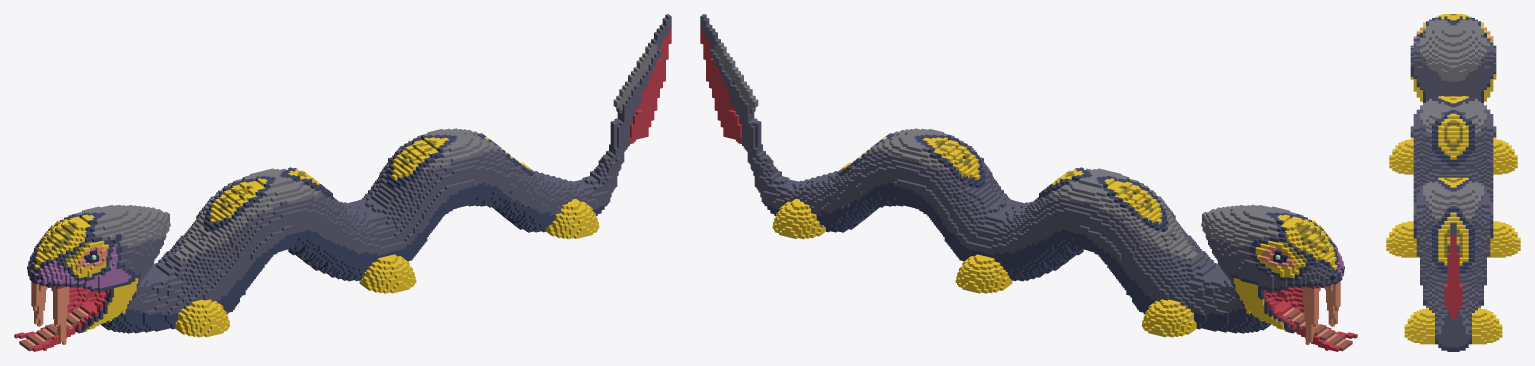
File: BattlePike.fbx
The picture shows the model from 3 angles, left to right: view 1: azimuth 30°, elevation 25°; view 2: azimuth 150°, elevation 25°; view 3: azimuth 270°, elevation 25°; orthographic projection. The views are drawn at different scales.
Visible parts, largest first — view 1: Battle Pike; view 2: Battle Pike; view 3: Battle Pike.
Part boxes in pixels (left/top/right/bottom): Battle Pike: left=14, top=14, right=671, bottom=351; Battle Pike: left=700, top=14, right=1357, bottom=351; Battle Pike: left=1386, top=14, right=1520, bottom=351.
Size of the model in its own units: 2240 by 580 by 440.
Materials: 1 (1 with a texture image).
